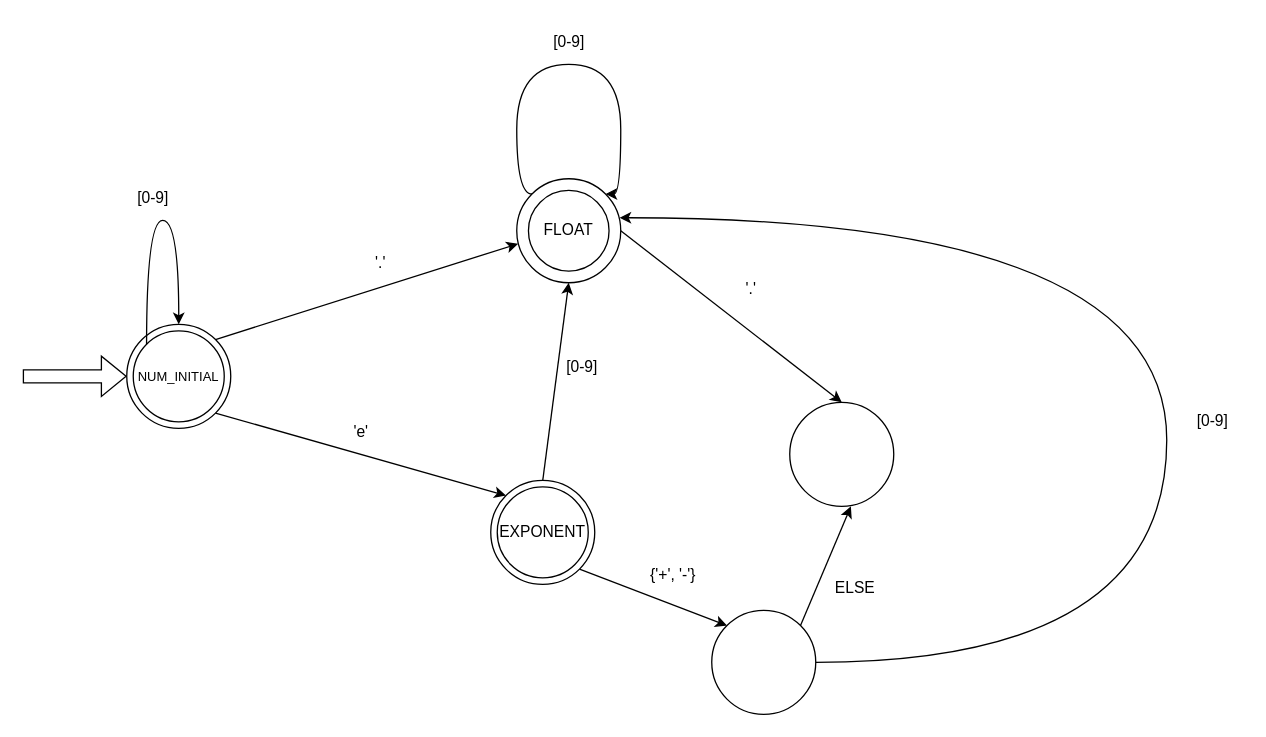
The diagram is 1266 pixels wide and 737 high, and some of its shapes have lost their labels. Here are the shapes that lost their labels. From the top down, the centre of each, then its label:
pixel 841 453: ERROR
pixel 763 661: SIGN
